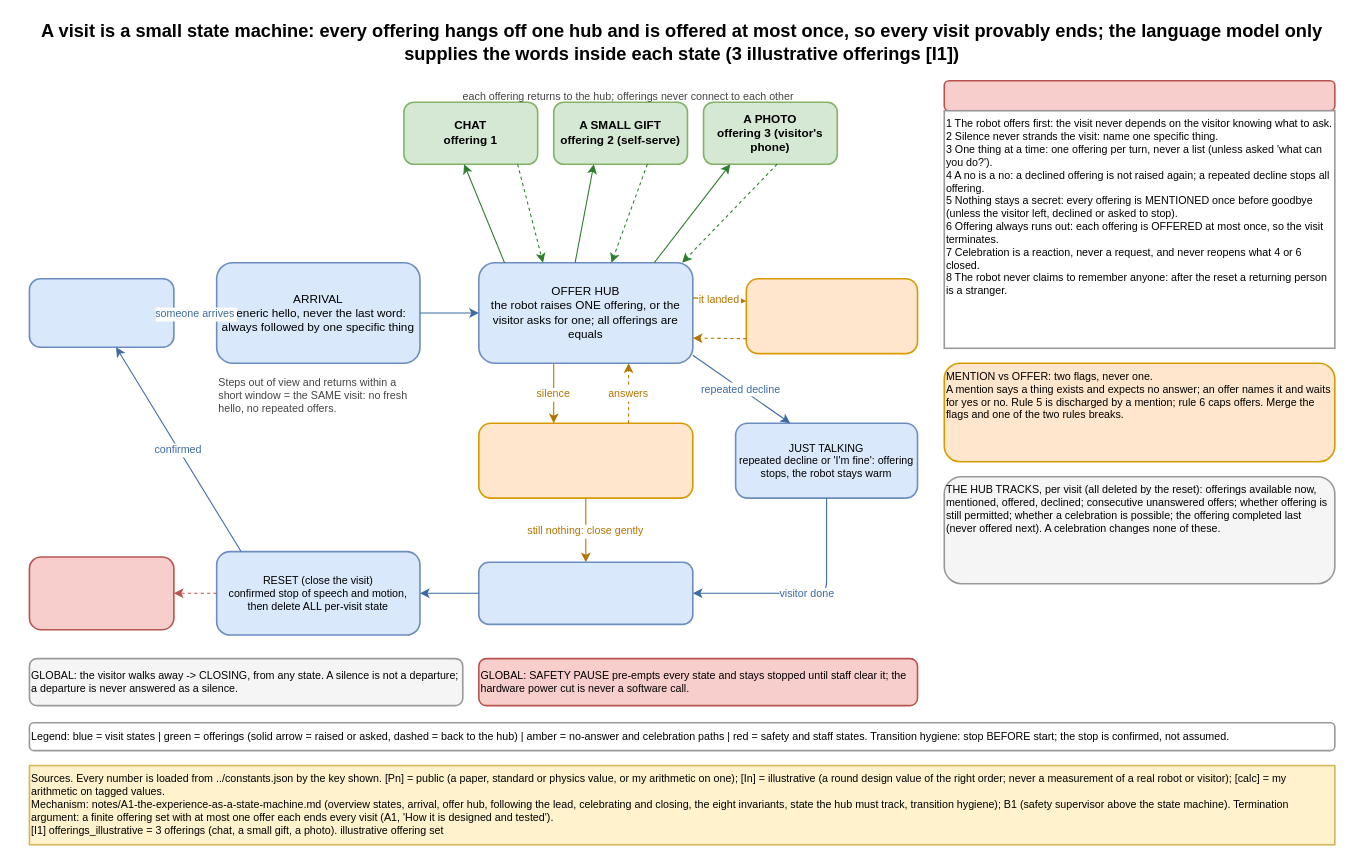
Image size: 1363x863. Some labels were removed from this diagram. Here are the shapes that lost their labels. From the top down, the centre of each, then its label:
At [1139,95]: "THE RULES THAT MUST ALWAYS HOLD (invariants)".
At [101,312]: "WAITING (attract posture)".
At [831,315]: "CELEBRATE a reaction, brief; only with something safe now, else skip silently".
At [585,460]: "NO ANSWER name one SPECIFIC thing (never an open 'what would you like?')".
At [101,593]: "NEEDS STAFF reset could not be confirmed: no new visit on top".
At [585,593]: "CLOSING goodbye; every offering mentioned at least once".
